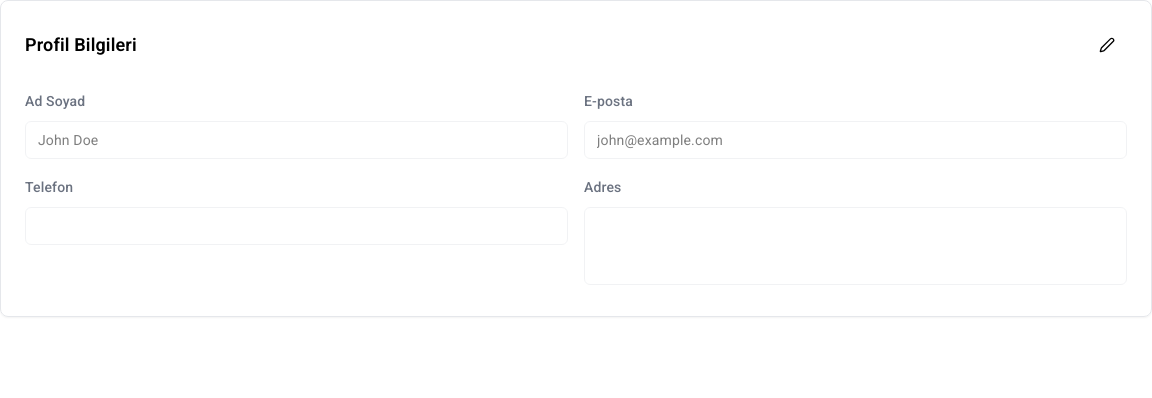
ProfileInfoCard › enables editing mode when edit button is clicked
Click the button named "Profili düzenle": (1107, 45) [1087,25,1127,65]
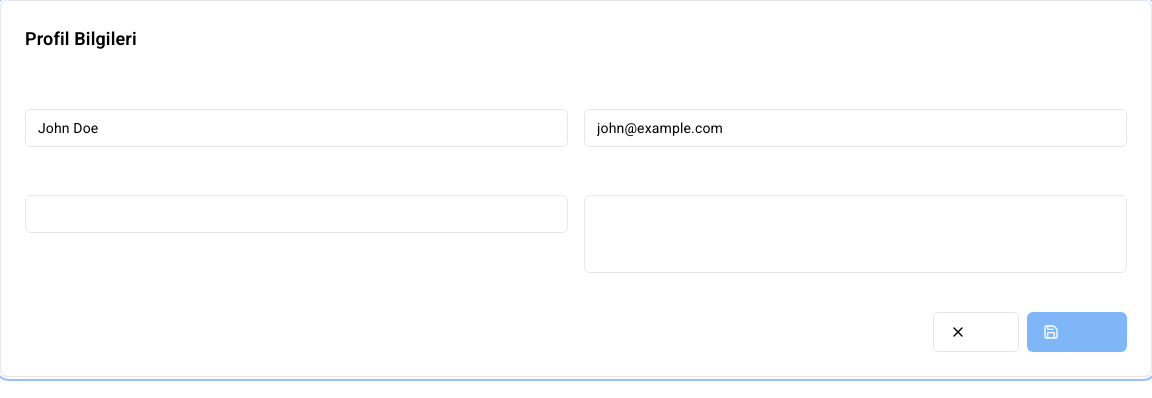
Expected: the field labelled "Telefon" is enabled, [25,195,568,233]
Result: the field labelled "Ad Soyad" is enabled at [25,109,568,147]
Result: the field labelled "E-posta" is enabled at [584,109,1127,147]
